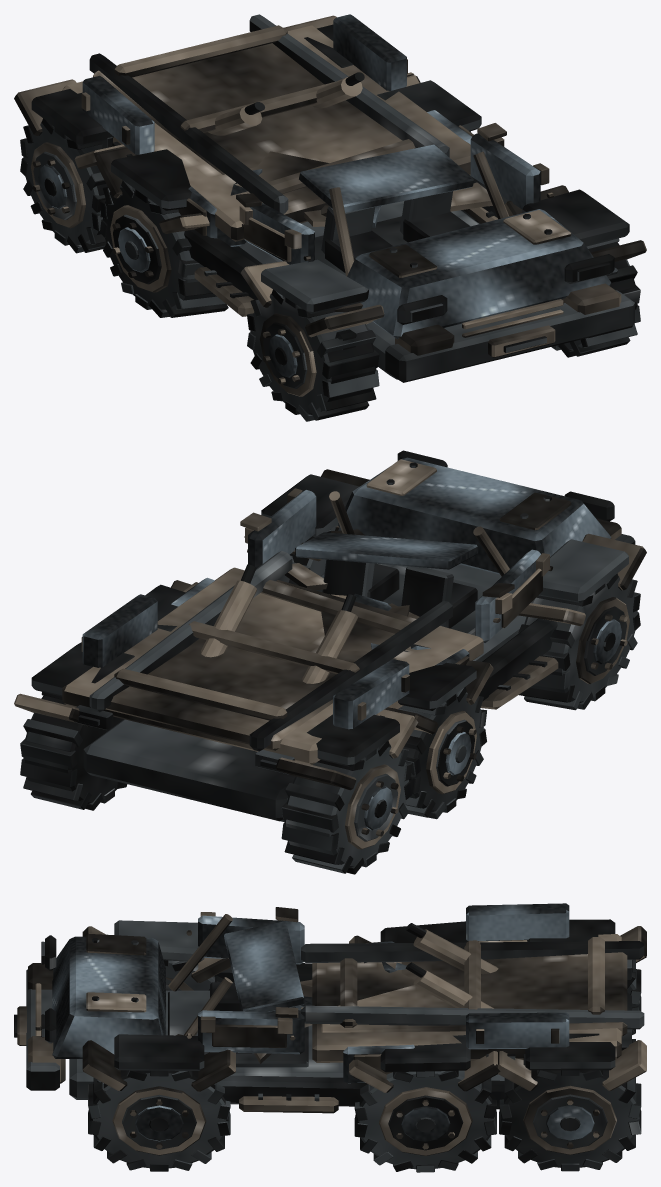
File: shkval-1.glb
The picture shows the model from 3 angles, top to bottom: view 1: azimuth 30°, elevation 25°; view 2: azimuth 150°, elevation 25°; view 3: azimuth 270°, elevation 25°; orthographic projection. The views are drawn at different scales.
Visible parts, largest first — view 1: wreck.shkval.structure, wreck.shkval.neutral, wreck.shkval.team; view 2: wreck.shkval.structure, wreck.shkval.neutral, wreck.shkval.team; view 3: wreck.shkval.structure, wreck.shkval.neutral, wreck.shkval.team.
Boxes of the visible parts, <box> form: wreck.shkval.structure: <box>20,14,640,421</box>; wreck.shkval.neutral: <box>14,15,646,396</box>; wreck.shkval.team: <box>38,14,611,377</box>; wreck.shkval.structure: <box>20,450,640,874</box>; wreck.shkval.neutral: <box>14,459,646,849</box>; wreck.shkval.team: <box>82,457,621,830</box>; wreck.shkval.structure: <box>14,919,644,1172</box>; wreck.shkval.neutral: <box>17,907,646,1155</box>; wreck.shkval.team: <box>52,903,594,1141</box>.
Bounding box in the file's own units: 1.84 × 1.02 × 3.37.
3 materials, 3 textured.
